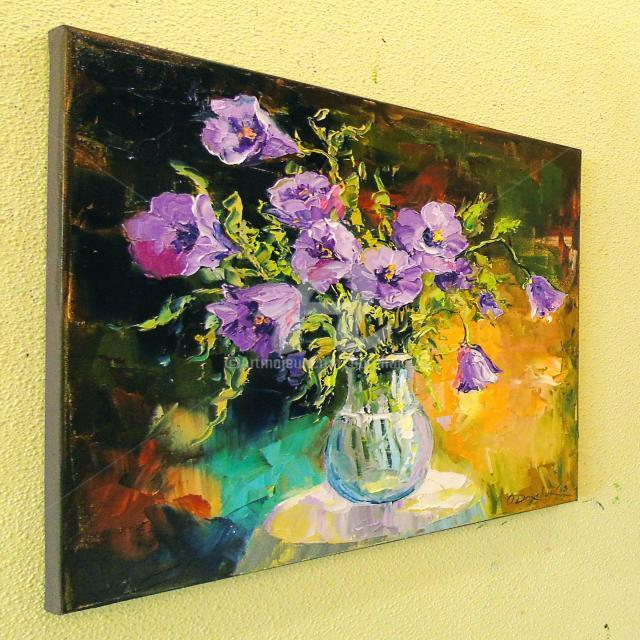painting: (47, 27, 579, 612)
